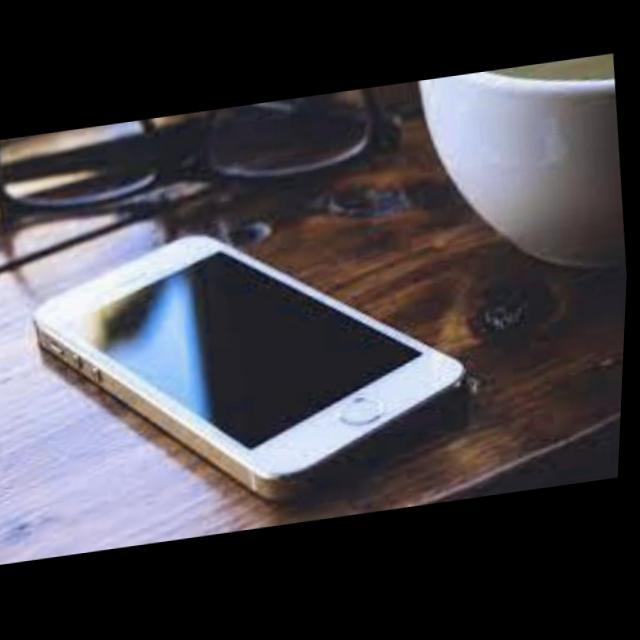Smartphone: (33, 231, 476, 502)
